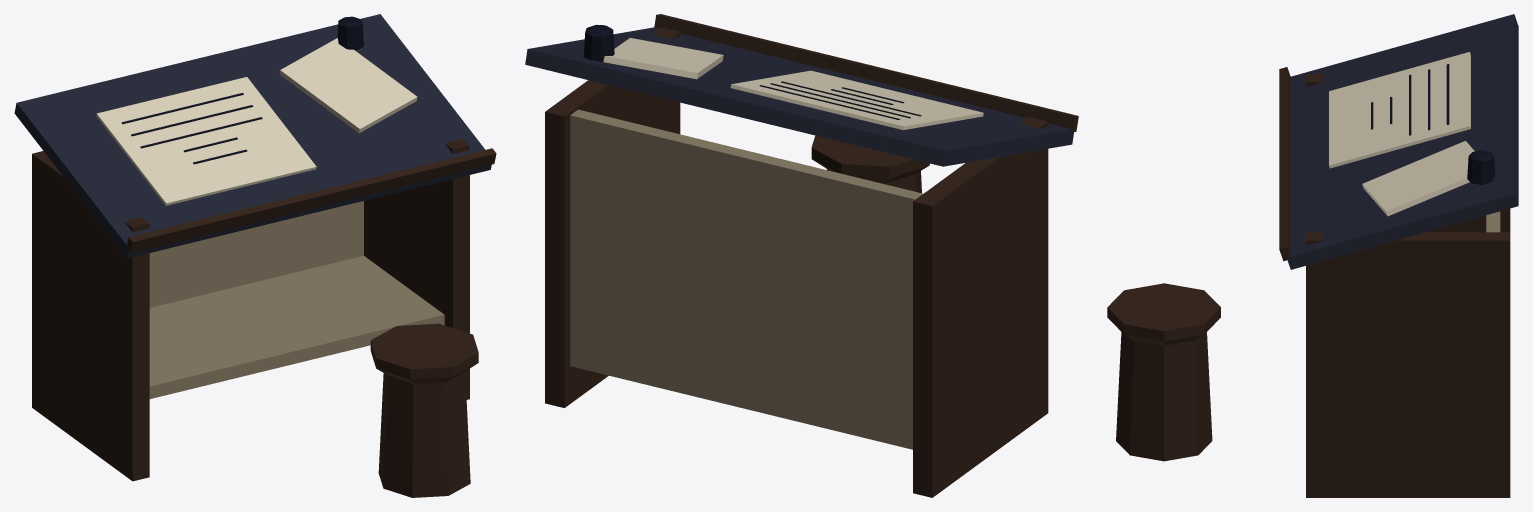
Rendered from desk.glb.
3 views of the same model, side by side, from view 1: azimuth 30°, elevation 25°; view 2: azimuth 150°, elevation 25°; view 3: azimuth 270°, elevation 25° (orthographic). The views are drawn at different scales.
Visible parts, largest first — view 1: Desk; view 2: Desk; view 3: Desk.
Boxes of the visible parts, bbox=[...] form: Desk: bbox=[14, 14, 496, 497]; Desk: bbox=[525, 14, 1078, 497]; Desk: bbox=[1107, 14, 1518, 497].
Size of the model in its own units: 1.5 by 1.28 by 1.45.
